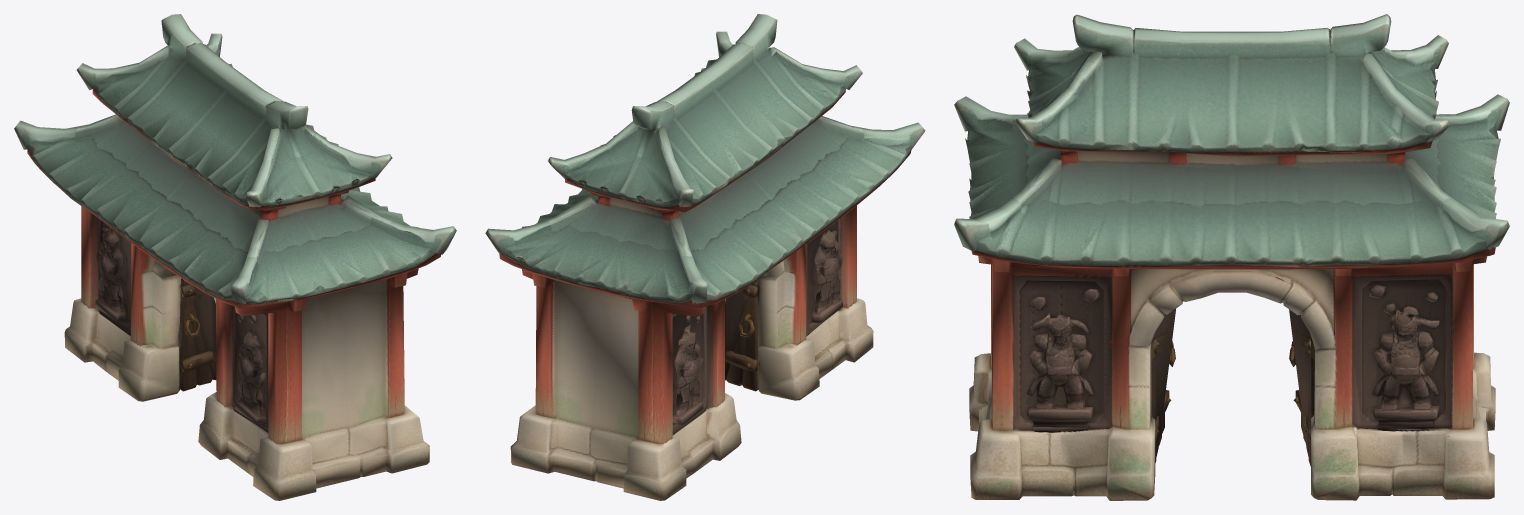
The model's file is tripo_convert_5f4ae850-001a-41f2-920c-2a3a3616d6e3.fbx.
3 views of the same model, side by side, from view 1: azimuth 30°, elevation 25°; view 2: azimuth 150°, elevation 25°; view 3: azimuth 270°, elevation 25° (orthographic). The views are drawn at different scales.
Visible parts, largest first — view 1: tripo_node_5f4ae850; view 2: tripo_node_5f4ae850; view 3: tripo_node_5f4ae850.
Boxes of the visible parts, box(x1,y1,x2,y2) form: tripo_node_5f4ae850: box(14, 14, 456, 500); tripo_node_5f4ae850: box(485, 14, 925, 500); tripo_node_5f4ae850: box(954, 14, 1509, 500).
Size of the model in its own units: 0.5762 by 0.8496 by 0.998.
Materials: 1 (1 with a texture image).
